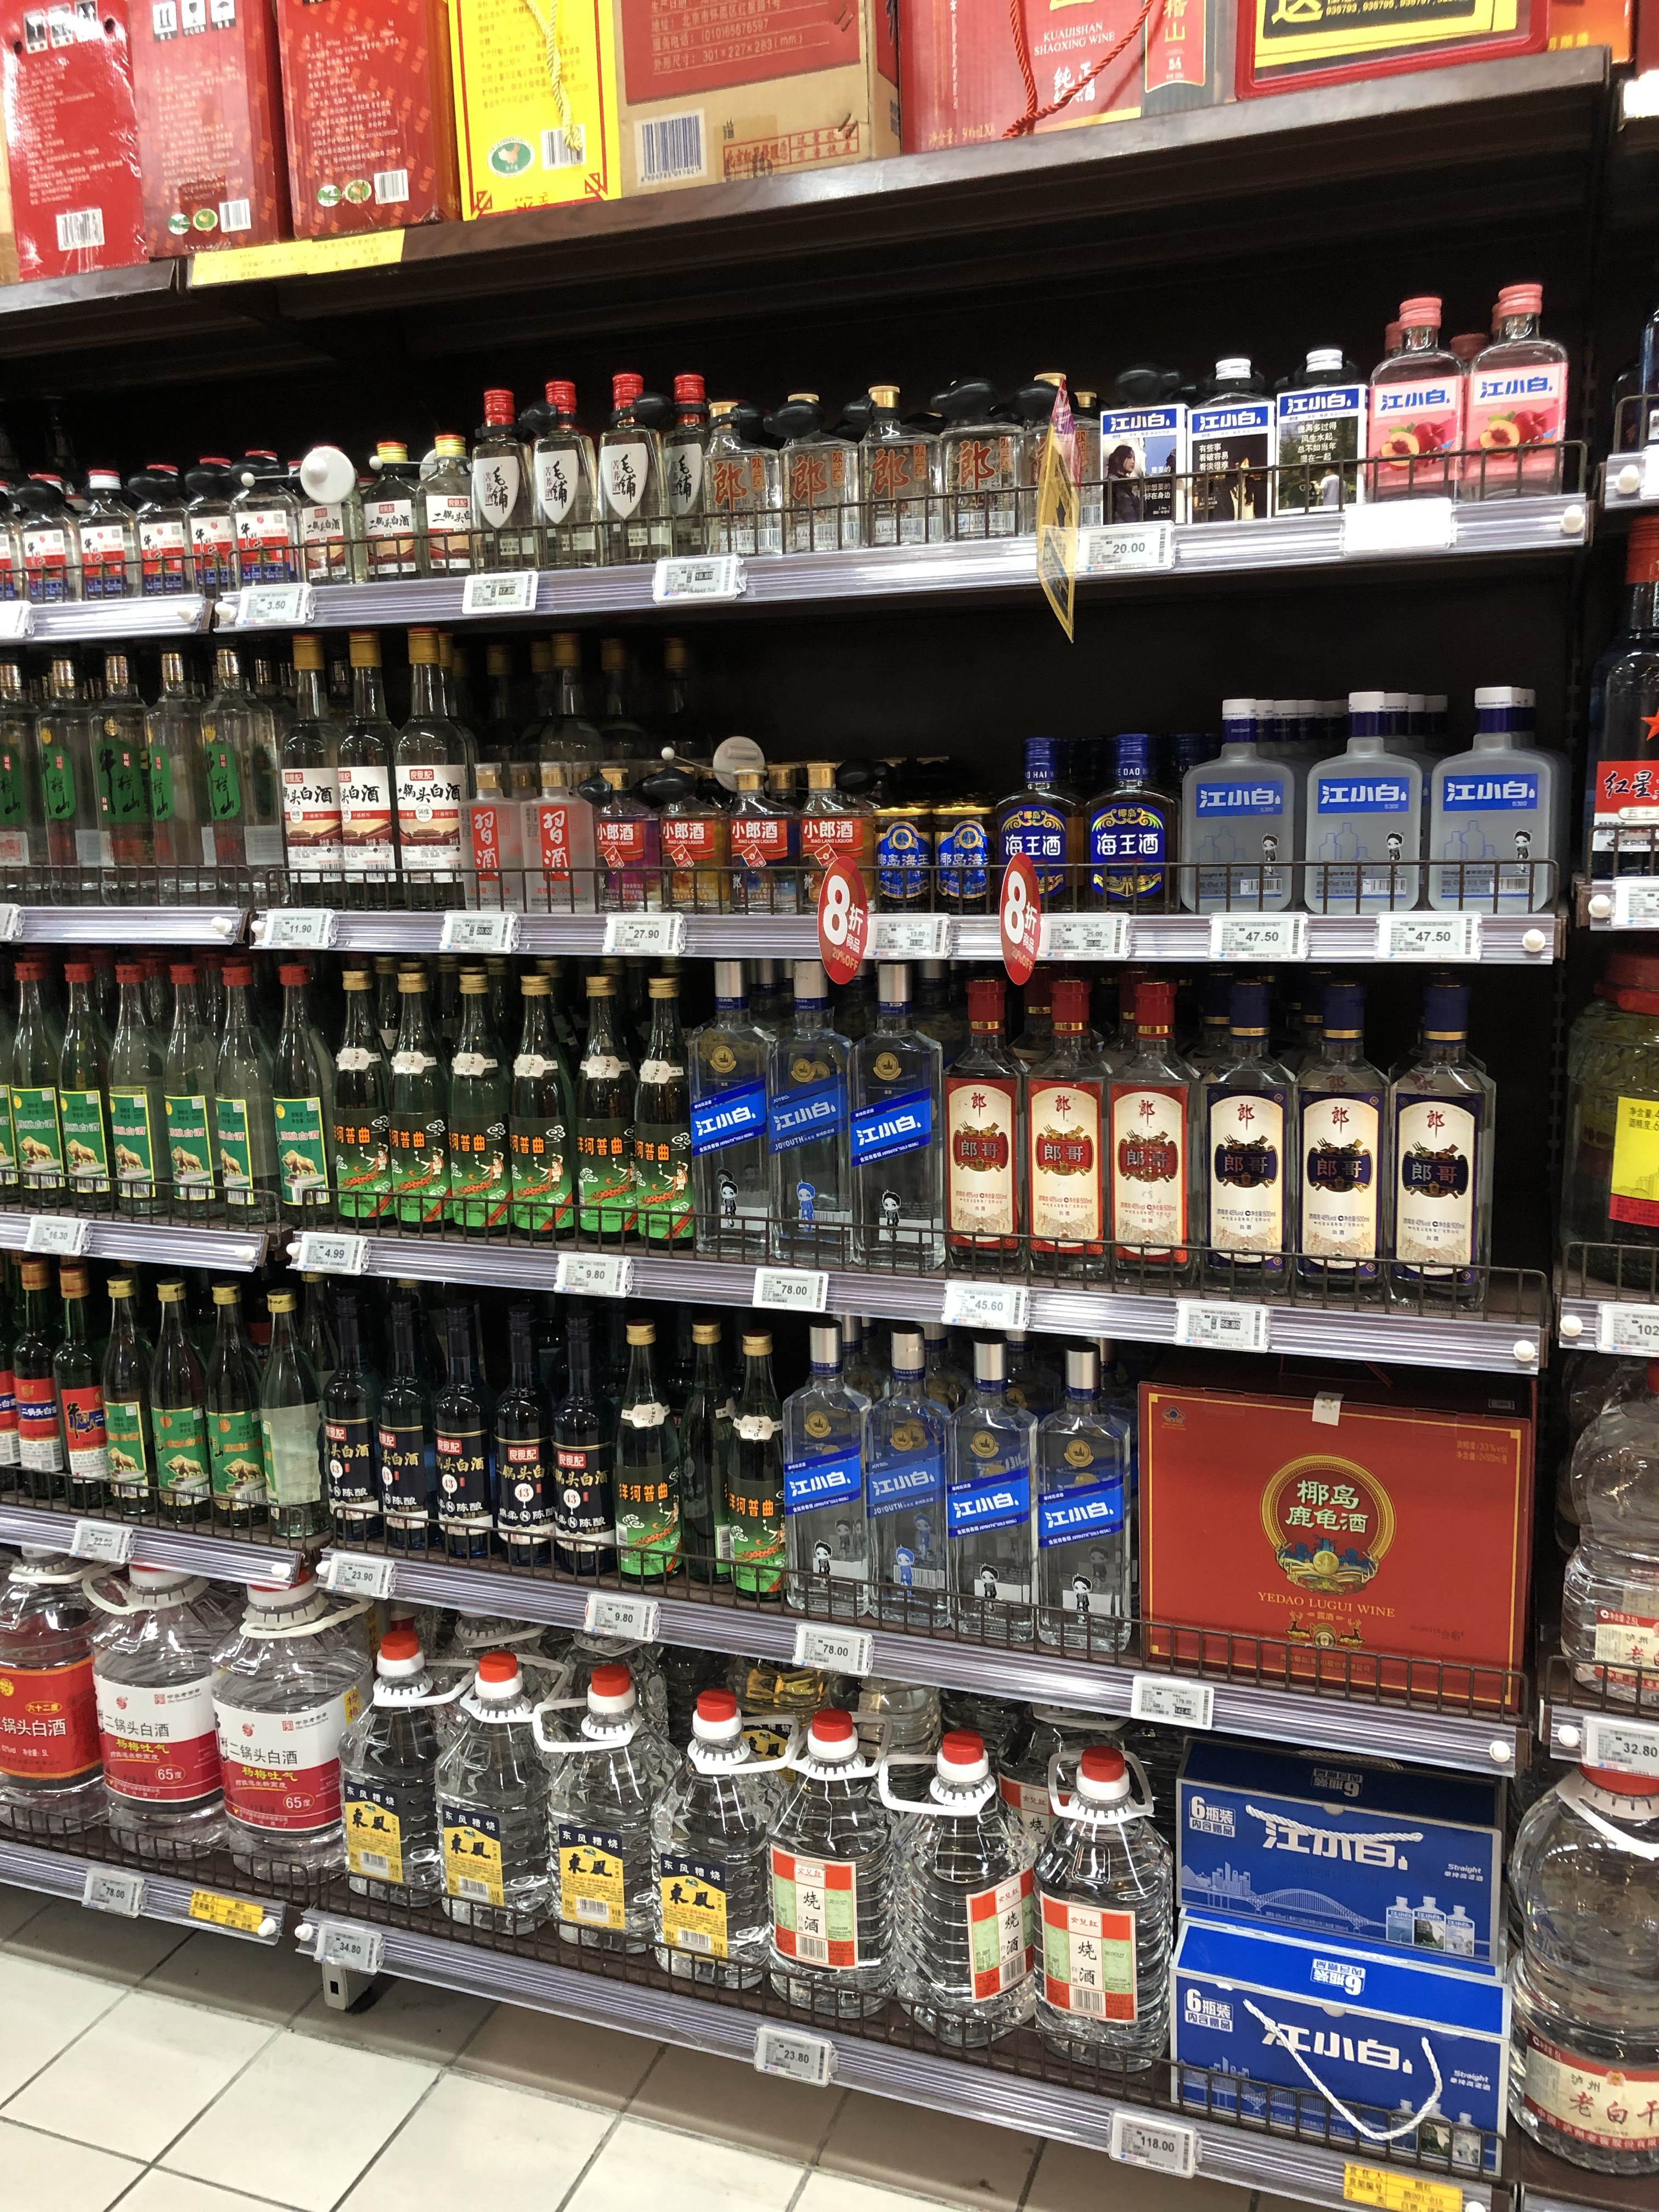bottle: (214, 1573, 361, 1898), (96, 1552, 247, 1862), (1037, 1754, 1168, 2104), (894, 1738, 1033, 2059), (767, 1714, 889, 2033), (1560, 1350, 1659, 1724), (544, 1672, 662, 1963), (653, 1696, 769, 1996), (0, 1548, 117, 1843), (430, 1656, 547, 1935), (1030, 1346, 1129, 1665), (1391, 975, 1485, 1305), (760, 961, 863, 1261), (336, 1634, 446, 1912), (1574, 526, 1657, 887), (1199, 977, 1293, 1298), (945, 1336, 1039, 1655), (856, 1331, 953, 1637), (1295, 984, 1387, 1303), (1103, 982, 1195, 1296), (695, 961, 788, 1271), (779, 1338, 873, 1625), (1021, 986, 1108, 1287), (936, 974, 1021, 1278), (1457, 280, 1567, 502), (254, 1282, 342, 1554), (369, 1280, 450, 1561), (185, 967, 270, 1226), (716, 1338, 798, 1608), (824, 967, 901, 1252), (429, 1298, 511, 1564), (605, 1320, 687, 1585), (91, 961, 173, 1226), (274, 641, 352, 916), (490, 1310, 572, 1571), (263, 970, 345, 1231), (1363, 301, 1464, 510), (533, 1315, 613, 1576), (335, 637, 410, 911), (157, 968, 235, 1226), (139, 1282, 220, 1533), (317, 1278, 390, 1552), (627, 981, 701, 1254), (200, 1285, 279, 1540), (443, 968, 514, 1244), (378, 972, 450, 1242), (56, 958, 127, 1228), (505, 975, 575, 1251), (3, 954, 75, 1219), (324, 970, 394, 1238), (92, 1275, 169, 1519), (572, 981, 640, 1252), (143, 655, 214, 904), (687, 1334, 755, 1595), (200, 651, 270, 902), (51, 1266, 122, 1510), (1084, 730, 1175, 920), (399, 637, 464, 904), (24, 660, 92, 904), (94, 662, 160, 907), (993, 737, 1080, 921), (10, 1261, 75, 1501), (592, 371, 659, 568), (467, 387, 535, 573), (532, 380, 596, 571), (1103, 369, 1180, 529), (655, 374, 720, 557), (533, 763, 603, 906), (697, 404, 763, 552), (464, 763, 528, 914), (796, 766, 861, 913), (594, 763, 653, 911), (359, 448, 425, 580), (725, 751, 779, 913), (420, 437, 476, 575)
box: (1178, 1916, 1511, 2181), (617, 0, 892, 197)
bucket: (1422, 691, 1561, 920), (1302, 693, 1429, 925), (1560, 991, 1654, 1291), (1244, 697, 1358, 923), (1188, 700, 1297, 920)
jar: (1272, 343, 1375, 521), (1187, 357, 1277, 531), (990, 388, 1086, 536), (941, 406, 1042, 538), (770, 413, 859, 549), (652, 773, 730, 918), (859, 406, 939, 543), (7, 477, 80, 610), (592, 779, 660, 916), (291, 456, 361, 585), (70, 474, 139, 603), (866, 792, 939, 911), (125, 474, 193, 599), (232, 472, 303, 589), (929, 794, 995, 914), (171, 477, 234, 596)
others: (1133, 1360, 1551, 1719), (1178, 1719, 1521, 1982), (1502, 1738, 1652, 2200), (54, 0, 293, 265), (256, 0, 474, 247), (0, 0, 167, 282), (446, 0, 617, 212), (892, 0, 1060, 164), (997, 0, 1173, 143)
